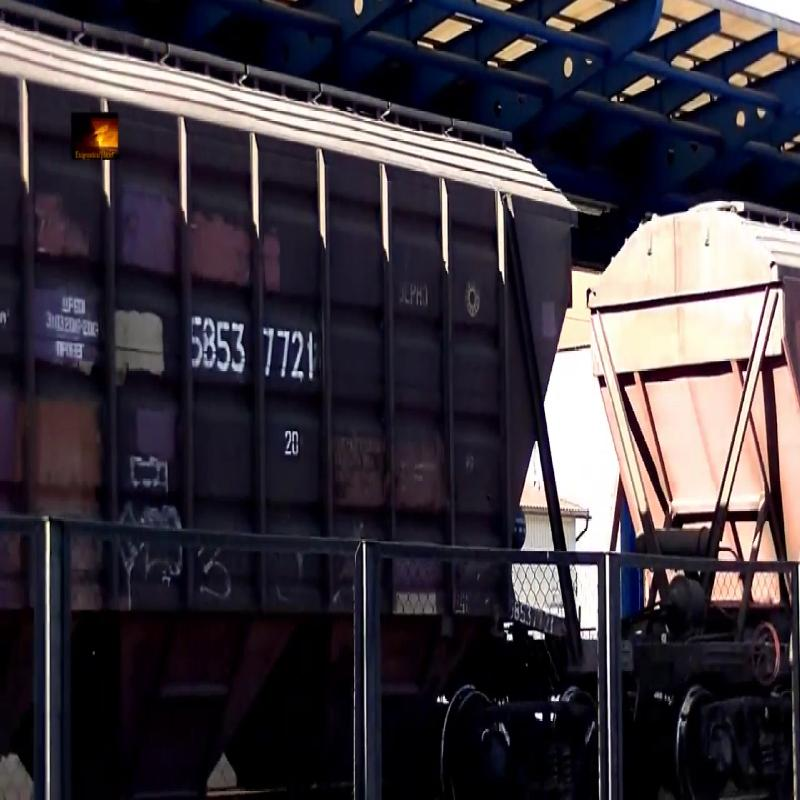train: (3, 24, 588, 772), (616, 20, 800, 769)
